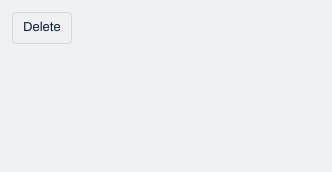
Test: ConfirmButton › only acts on the second click
Click the button "Delete" at [42, 28], box [12, 12, 72, 44]
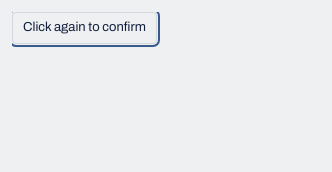
Click the button "Click again to confirm" at [84, 28], box [12, 12, 157, 44]
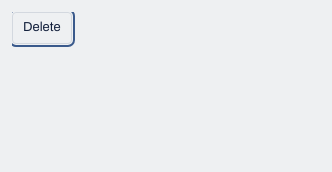
Expected: the button "Delete" is shown, [12, 12, 72, 44]
